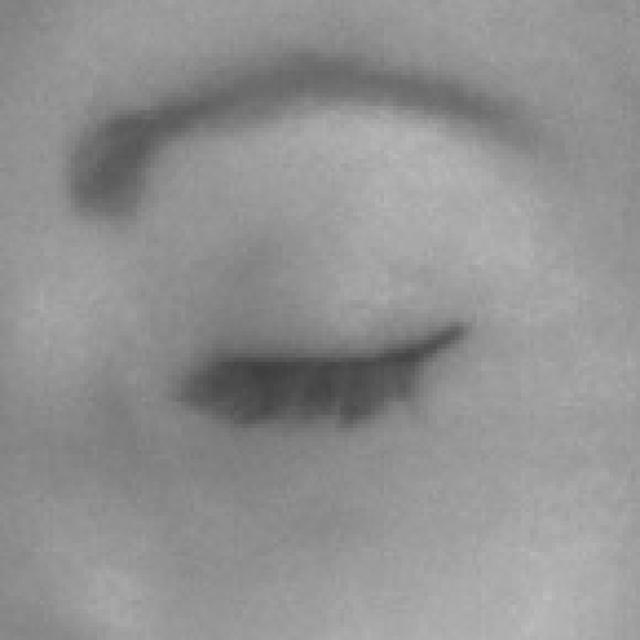Eyeclosed: (204, 230, 472, 520)
